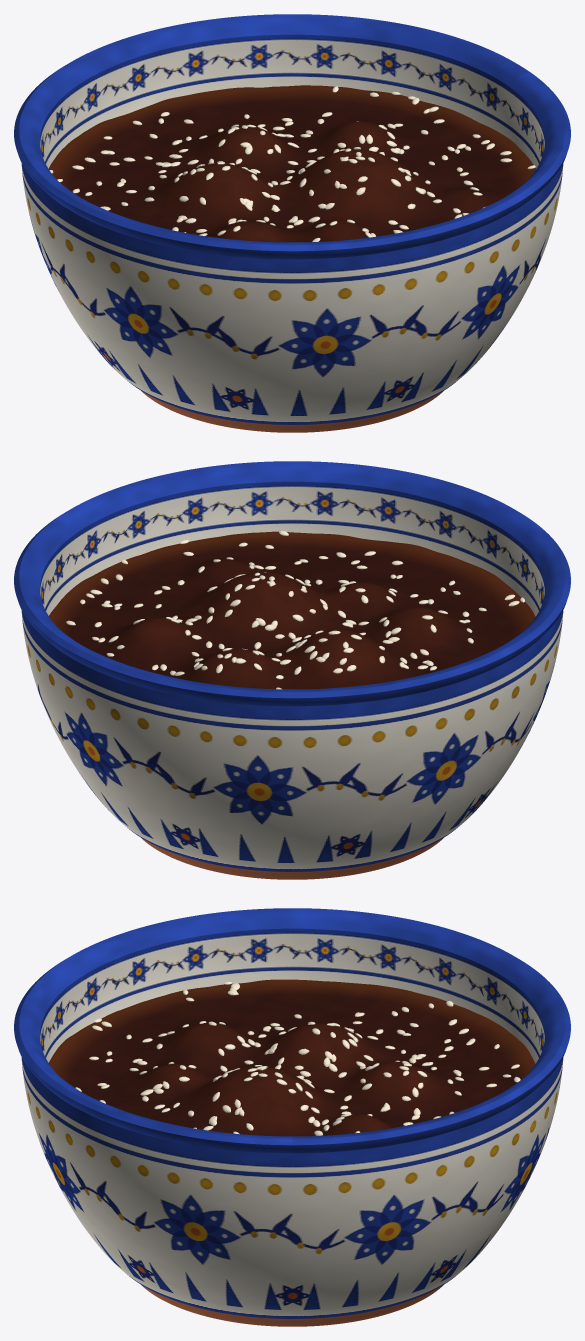
File: bowl_mole_hero.glb
The picture shows the model from 3 angles, top to bottom: view 1: azimuth 30°, elevation 25°; view 2: azimuth 150°, elevation 25°; view 3: azimuth 270°, elevation 25°; orthographic projection.
Visible parts, largest first — view 1: bowl_mole_hero; view 2: bowl_mole_hero; view 3: bowl_mole_hero.
Boxes of the visible parts, x1=… form: bowl_mole_hero: x1=14, y1=14, x2=570, y2=432; bowl_mole_hero: x1=14, y1=461, x2=570, y2=879; bowl_mole_hero: x1=14, y1=908, x2=570, y2=1326.
Size of the model in its own units: 0.16 by 0.0747 by 0.16.
Materials: 3 (2 with a texture image).
